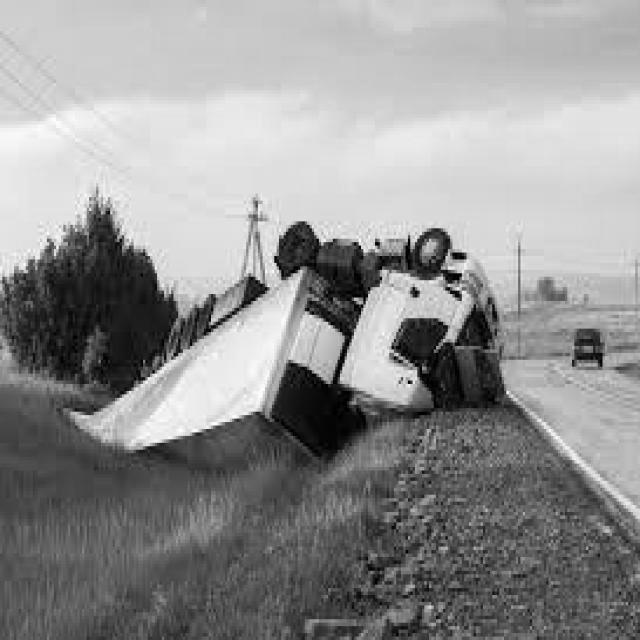accident: (86, 211, 513, 471)
vehicle: (563, 322, 612, 377)
